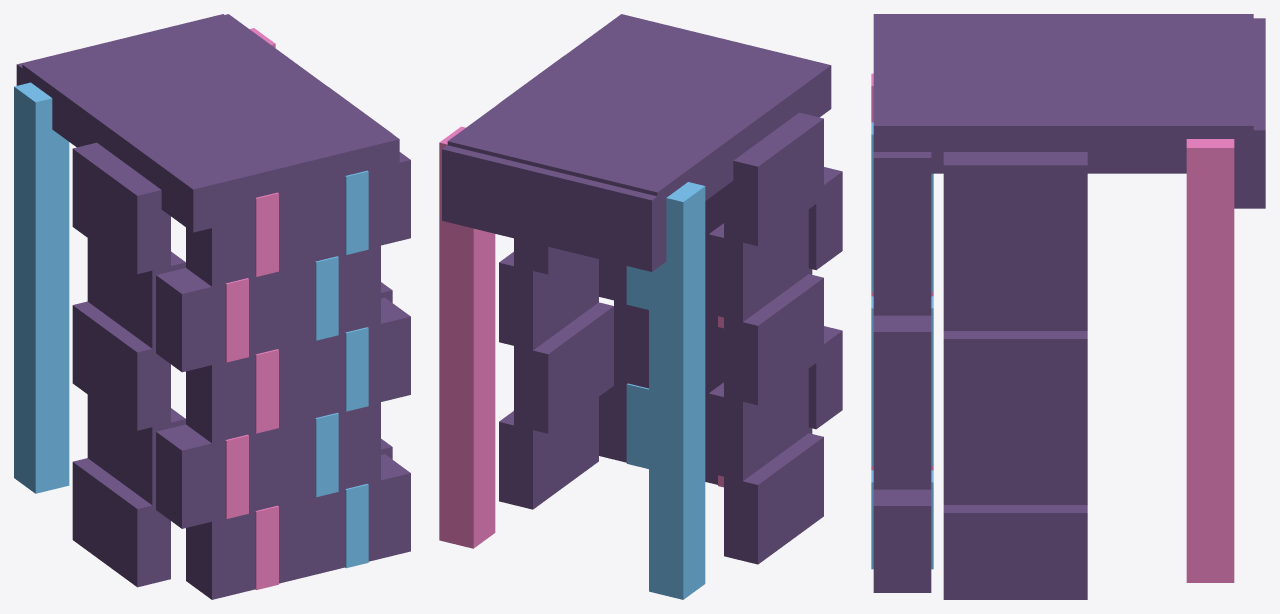
Rendered from peruca_rosa_azul.glb.
3 views of the same model, side by side, from view 1: azimuth 30°, elevation 25°; view 2: azimuth 150°, elevation 25°; view 3: azimuth 270°, elevation 25° (orthographic). The views are drawn at different scales.
Parts seen in each view (by area): view 1: peruca_rosa_azul; view 2: peruca_rosa_azul; view 3: peruca_rosa_azul.
Part boxes in pixels (x1,y1,x2,y2): peruca_rosa_azul: [14, 14, 410, 599]; peruca_rosa_azul: [439, 14, 842, 599]; peruca_rosa_azul: [871, 14, 1265, 599].
Size of the model in its own units: 0.682 by 1.06 by 0.822.
